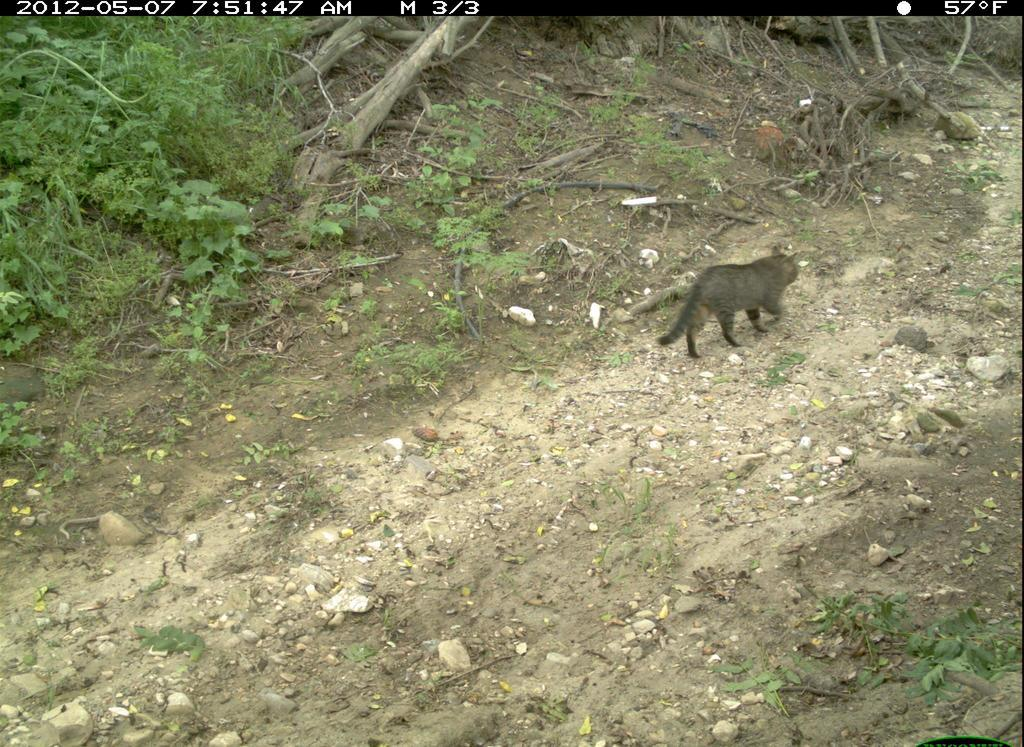cat: (657, 235, 813, 364)
